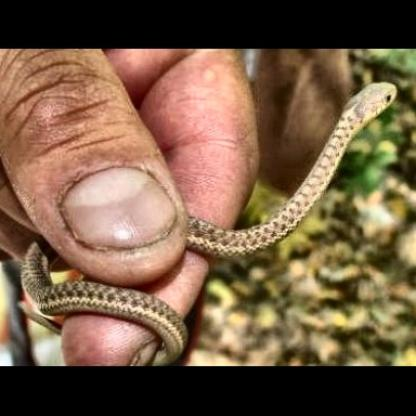Snake: (185, 82, 397, 261)
